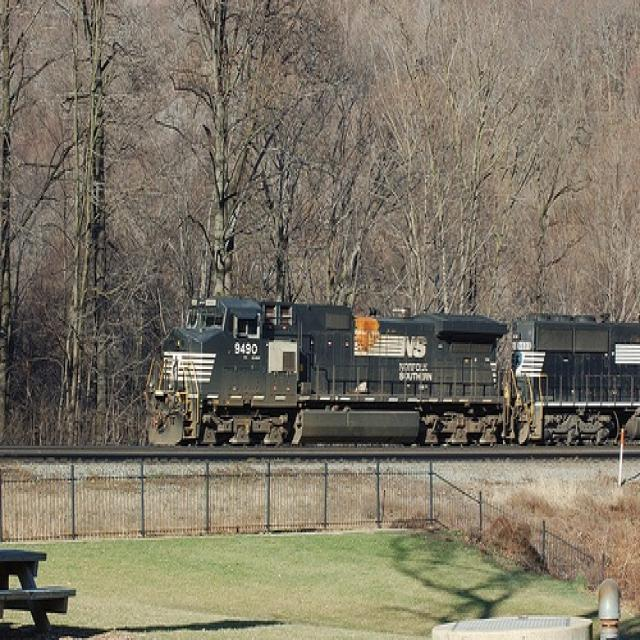train: (142, 286, 639, 454)
